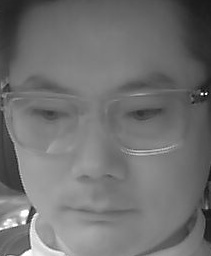eye: (125, 104, 165, 125), (29, 104, 68, 125)
glass: (103, 90, 186, 155), (6, 90, 79, 152)
mouth: (62, 194, 136, 233)
